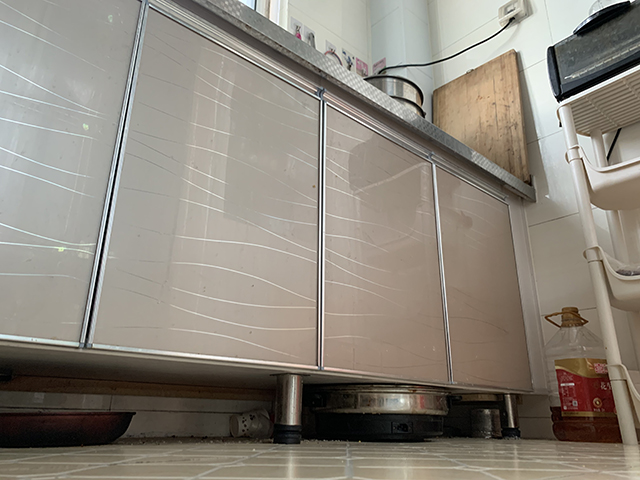cabinet: (1, 1, 552, 445)
